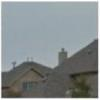chimneys: (58, 46, 68, 66)
